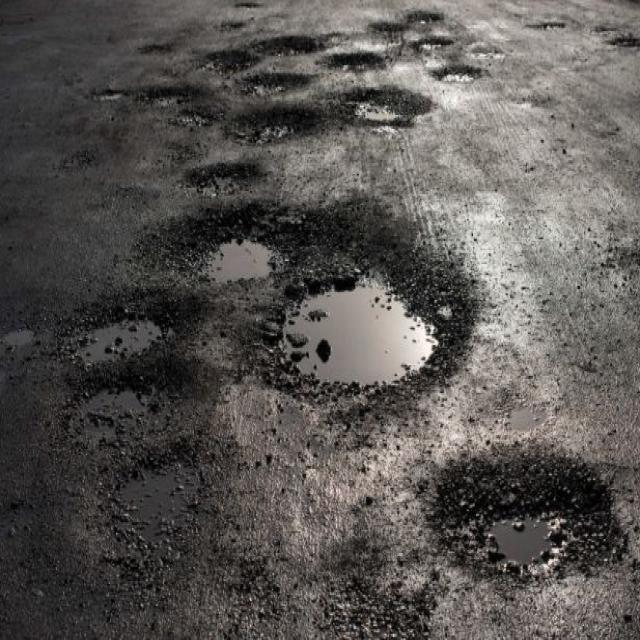Pothole: (417, 450, 635, 590), (277, 253, 474, 405), (201, 217, 297, 292), (75, 304, 171, 369), (345, 86, 434, 130)
